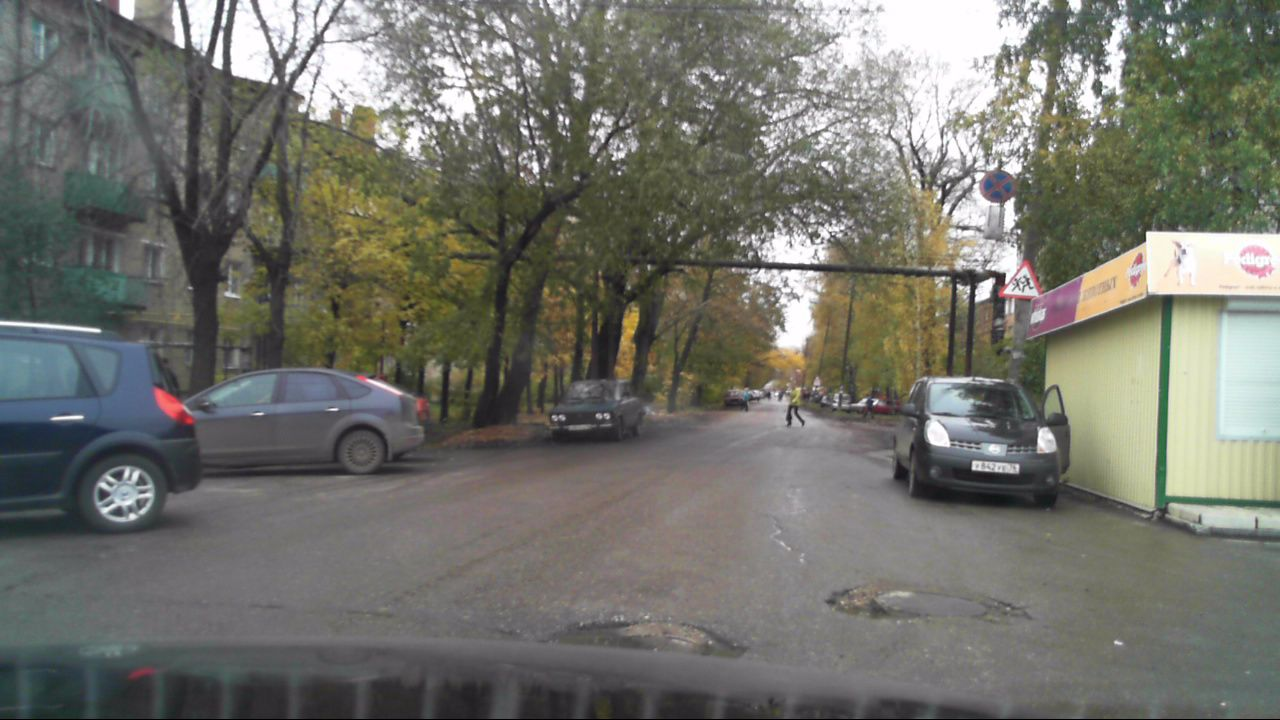No Parking: (978, 171, 1015, 204)
